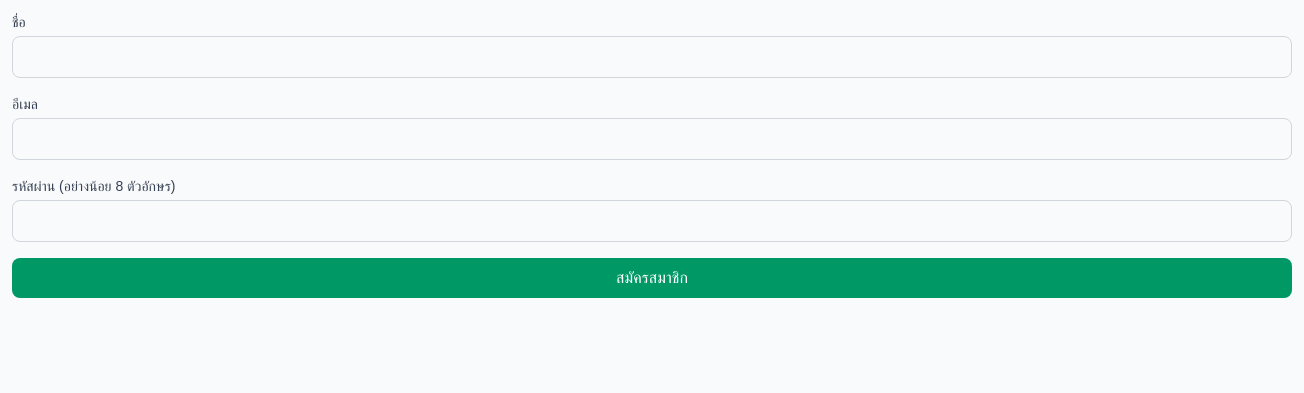
Scenario: <RegisterForm /> › maps server VALIDATION_ERROR details onto fields
The width and height of the screenshot is (1304, 393).
Type "สมชาย" into the field labelled "ชื่อ" at (652, 57), box [12,36,1292,78]
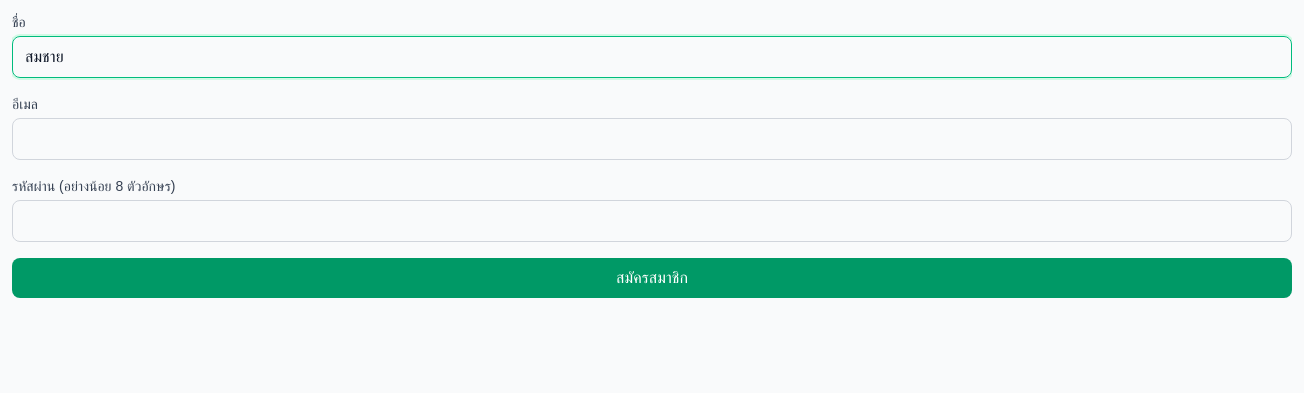
Type "a@example.com" into the field labelled "อีเมล" at (652, 139), box [12,118,1292,160]
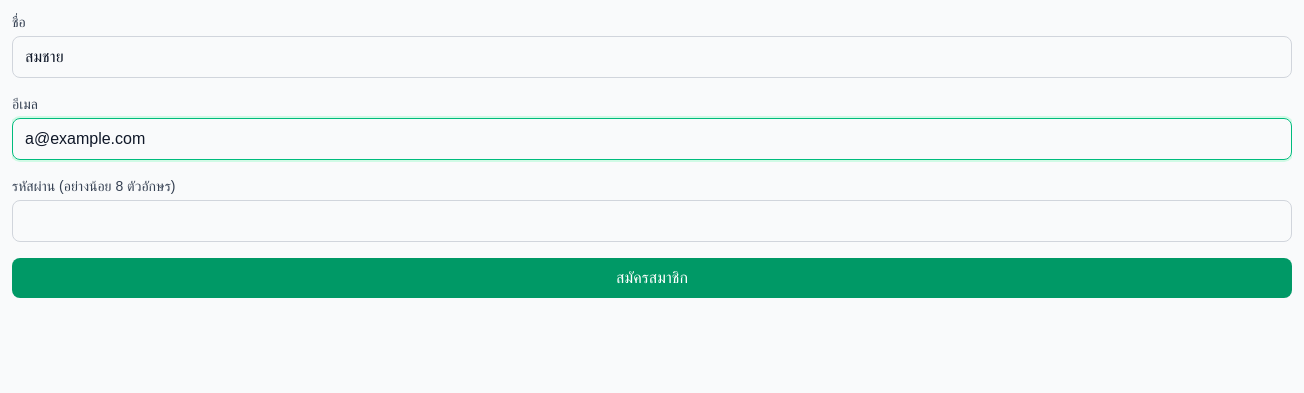
Type "correct-horse-1" into the password field labelled "รหัสผ่าน (อย่างน้อย 8 ตัวอักษร)" at (652, 221), box [12,200,1292,242]
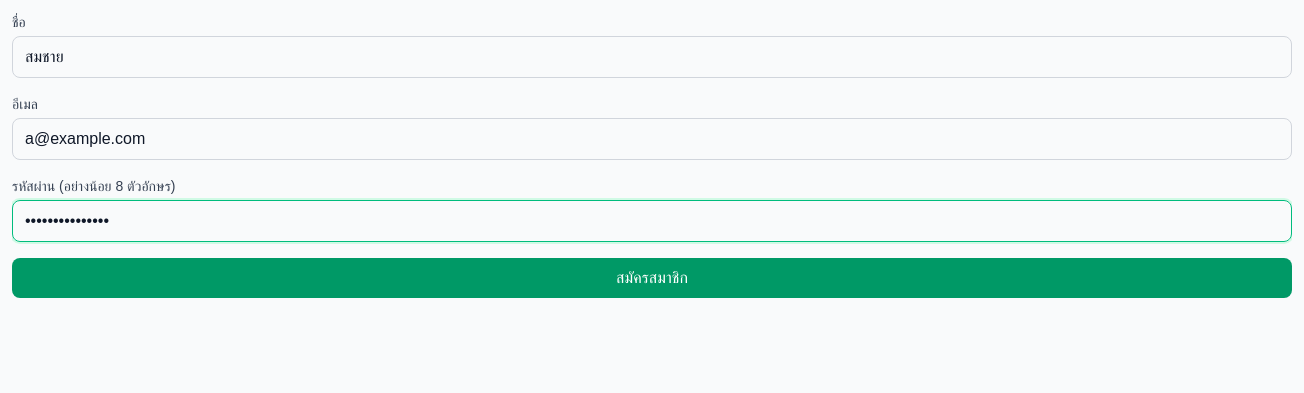
Click the button "สมัครสมาชิก" at (652, 278), box [12,258,1292,298]
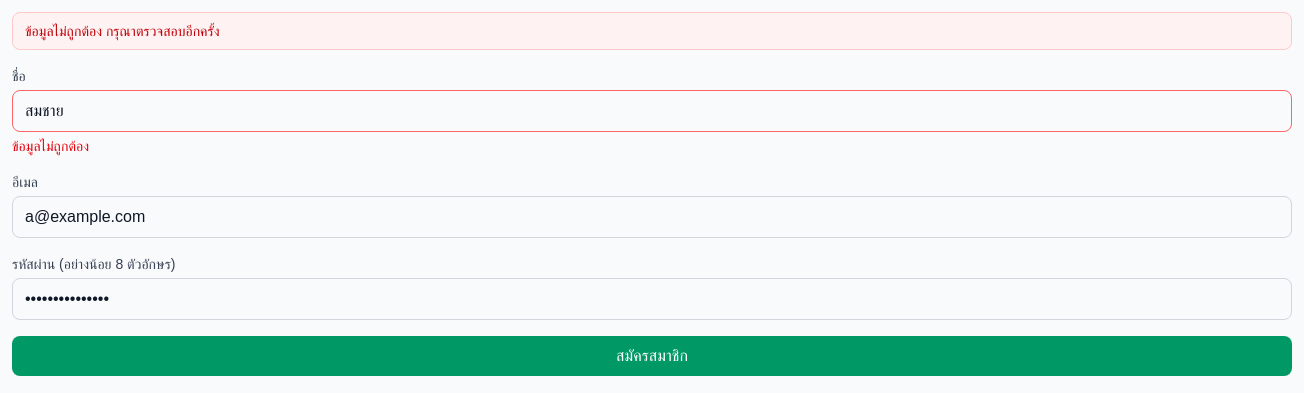
Expected: the message shows "ข้อมูลไม่ถูกต้อง", [25,23,220,39]
